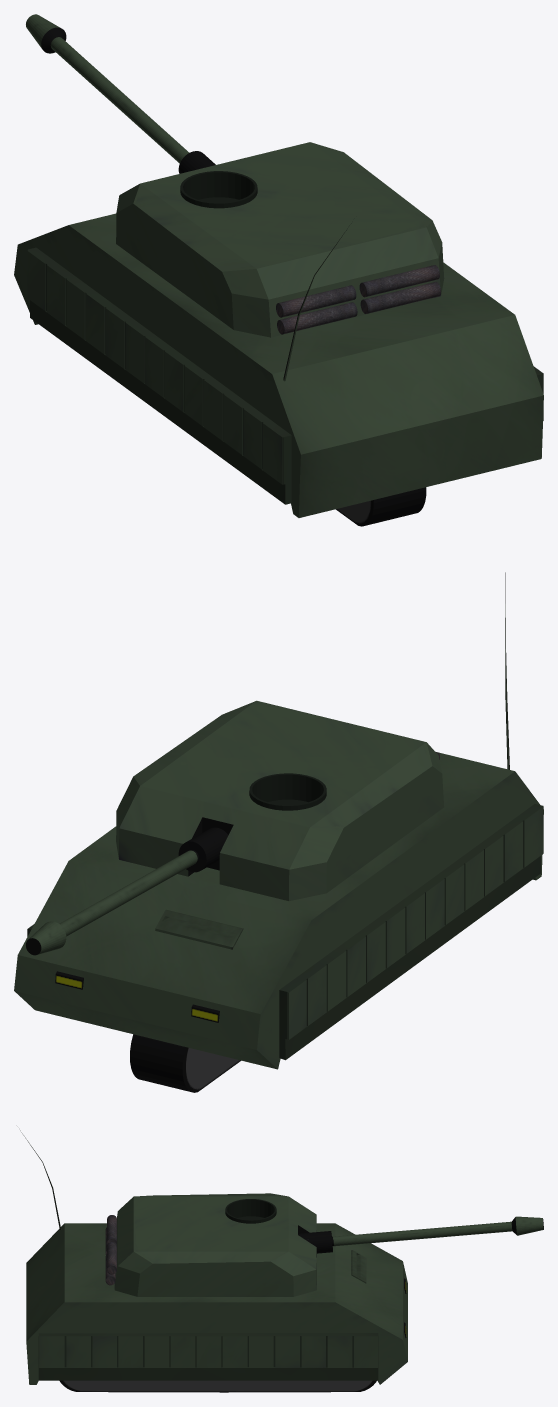
Rendered from Tanks.fbx.
The picture shows the model from 3 angles, top to bottom: view 1: azimuth 30°, elevation 25°; view 2: azimuth 150°, elevation 25°; view 3: azimuth 270°, elevation 25°; orthographic projection. The views are drawn at different scales.
Parts seen in each view (by area): view 1: Base, Turret, SidePlates, Canon, Tracks; view 2: Base, Turret, SidePlates, Canon, Tracks; view 3: Base, Turret, SidePlates, Tracks, Canon.
Part boxes in pixels (x1,y1,x2,y2): Base: (14,213,543,517); Turret: (116,142,444,337); SidePlates: (27,247,543,504); Canon: (26,14,215,173); Tracks: (336,487,426,526); Base: (14,572,543,1069); Turret: (116,700,444,900); SidePlates: (27,804,543,1060); Canon: (26,827,228,955); Tracks: (130,1034,240,1092); Base: (20,1130,407,1384); Turret: (105,1193,316,1296); SidePlates: (38,1333,378,1380); Tracks: (59,1380,376,1392); Canon: (298,1216,543,1253).
Bounding box in the file's own units: 323 × 423 × 852.
